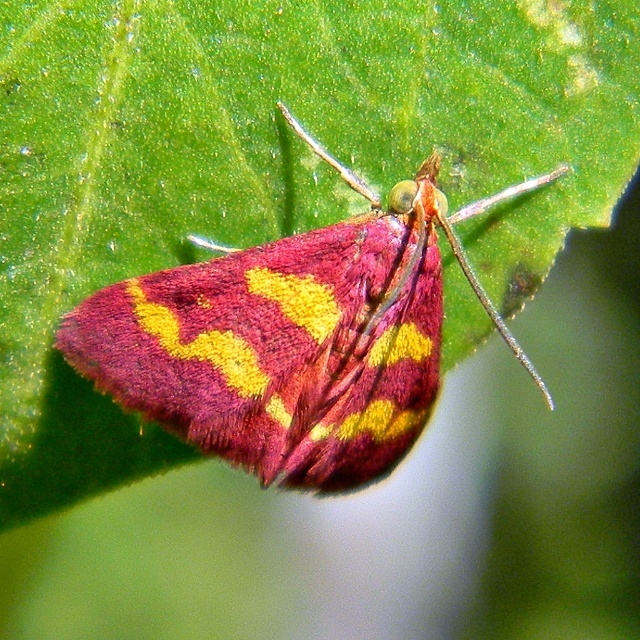Butterfly: (65, 122, 534, 481)
